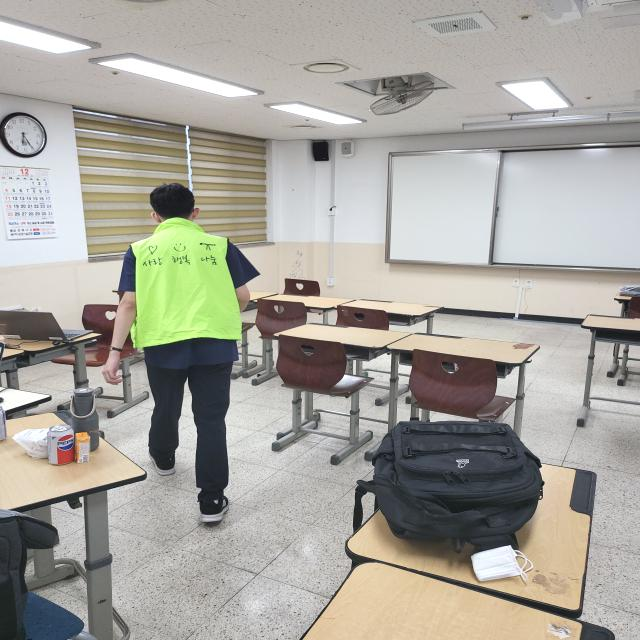weston_spy: (114, 210, 260, 366)
